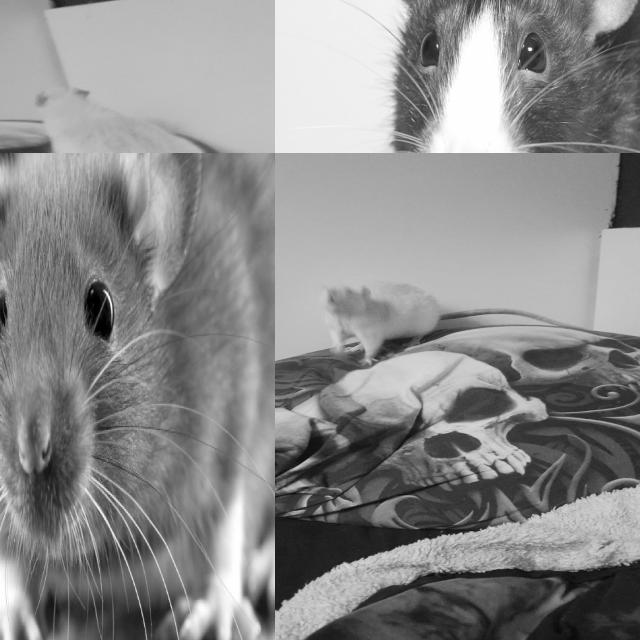rat: (0, 153, 275, 640), (340, 0, 640, 153), (33, 82, 205, 153), (316, 274, 440, 370)
